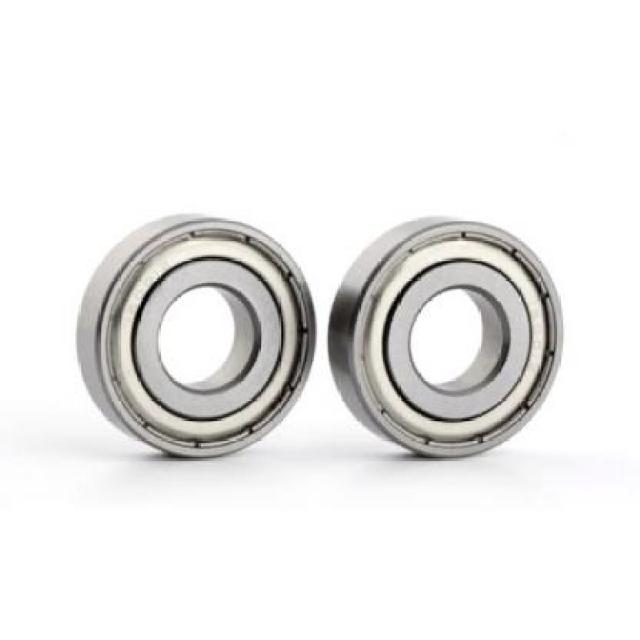Bearing: (73, 209, 323, 463), (326, 212, 573, 465)
